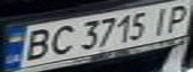1: (115, 11, 136, 44)
3: (75, 18, 100, 52)
5: (127, 8, 154, 41)
7: (96, 15, 121, 47)
B: (15, 26, 57, 63)
C: (42, 23, 78, 57)
I: (145, 3, 175, 36)
P: (160, 1, 193, 34)
